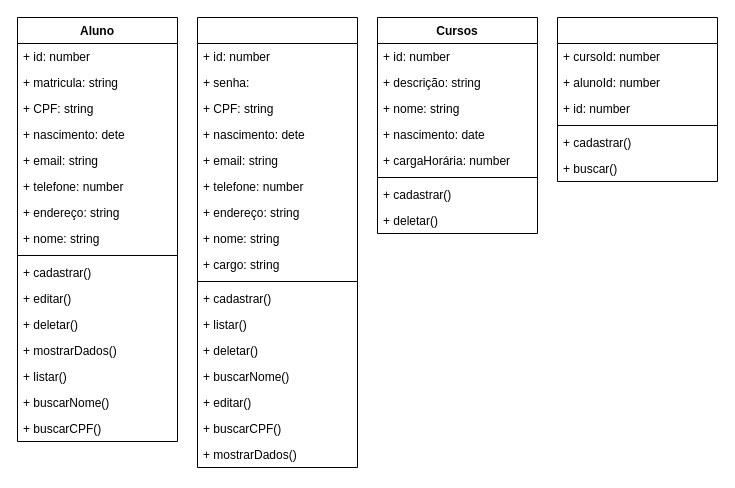
Some shapes in this 735 by 488 pixel diagram are drawn without their labels. Here are the shapes that lost their labels. From the top down, the box of each, then its label:
(556, 16, 718, 182): Matriculas
(196, 16, 358, 468): Funcionarios
